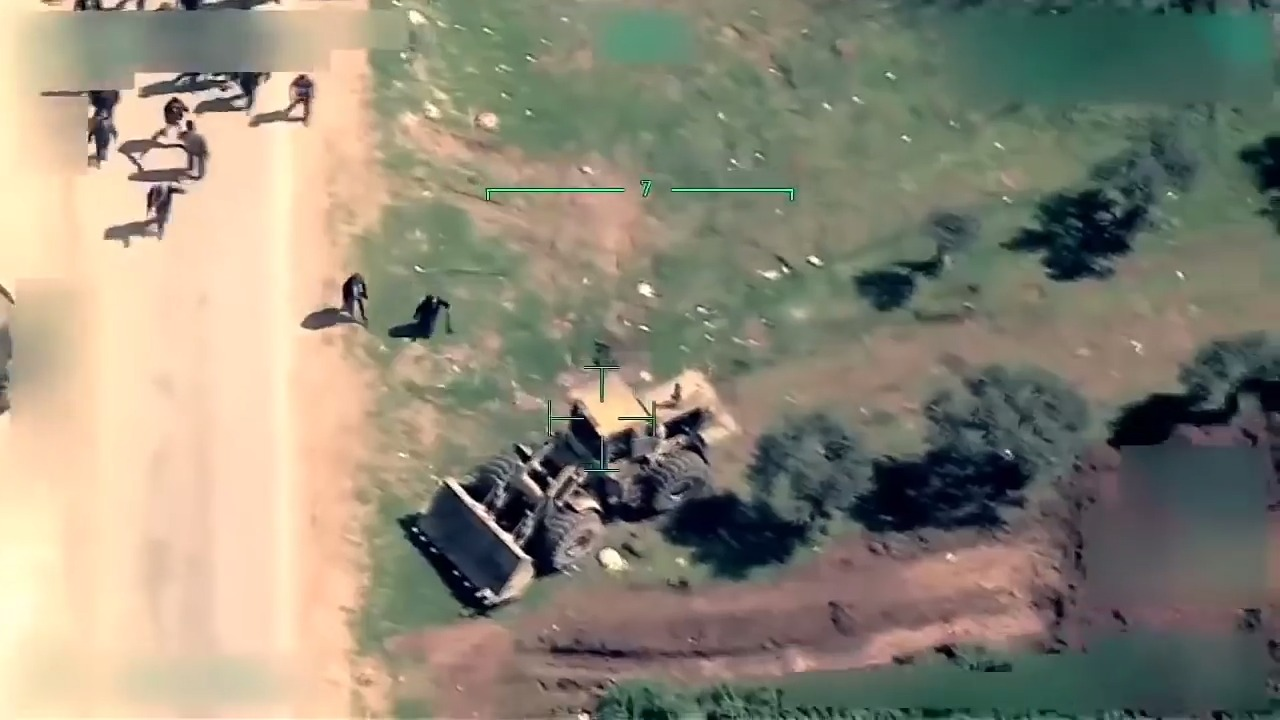arac: (397, 359, 749, 610)
insan: (407, 283, 471, 344), (138, 178, 194, 241), (329, 257, 376, 324), (278, 67, 326, 126), (177, 118, 224, 171)
